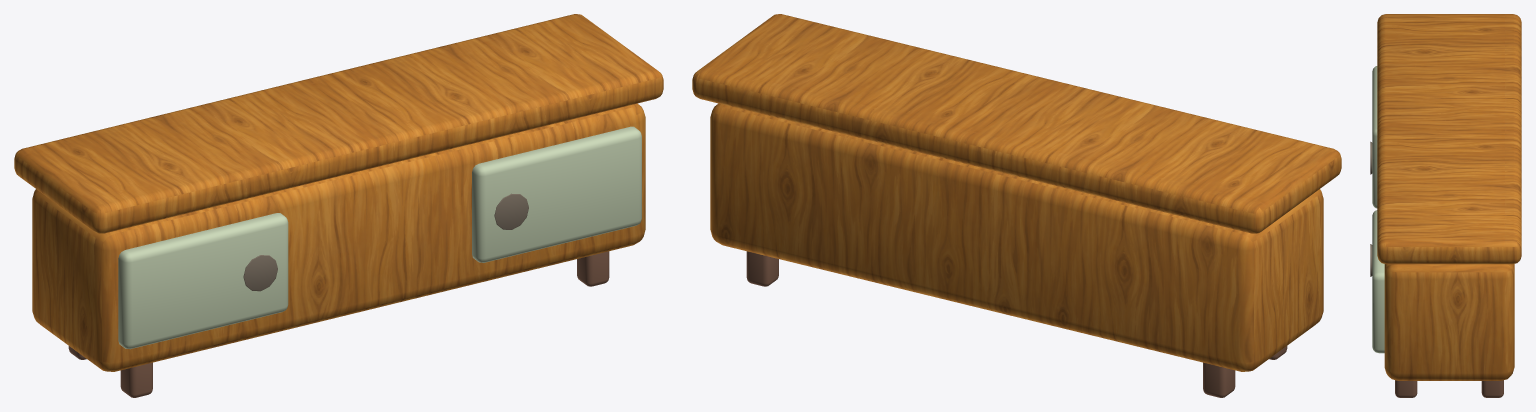
Rendered from tv-stand.glb.
The picture shows the model from 3 angles, left to right: view 1: azimuth 30°, elevation 25°; view 2: azimuth 150°, elevation 25°; view 3: azimuth 270°, elevation 25°; orthographic projection. The views are drawn at different scales.
Parts seen in each view (by area): view 1: tv-stand; view 2: tv-stand; view 3: tv-stand.
Part boxes in pixels (left/top/right/bottom): tv-stand: left=14, top=14, right=663, bottom=397; tv-stand: left=692, top=14, right=1341, bottom=397; tv-stand: left=1370, top=14, right=1521, bottom=397.
Size of the model in its own units: 1.6 by 0.5595 by 0.4407.
5 materials, 1 textured.
